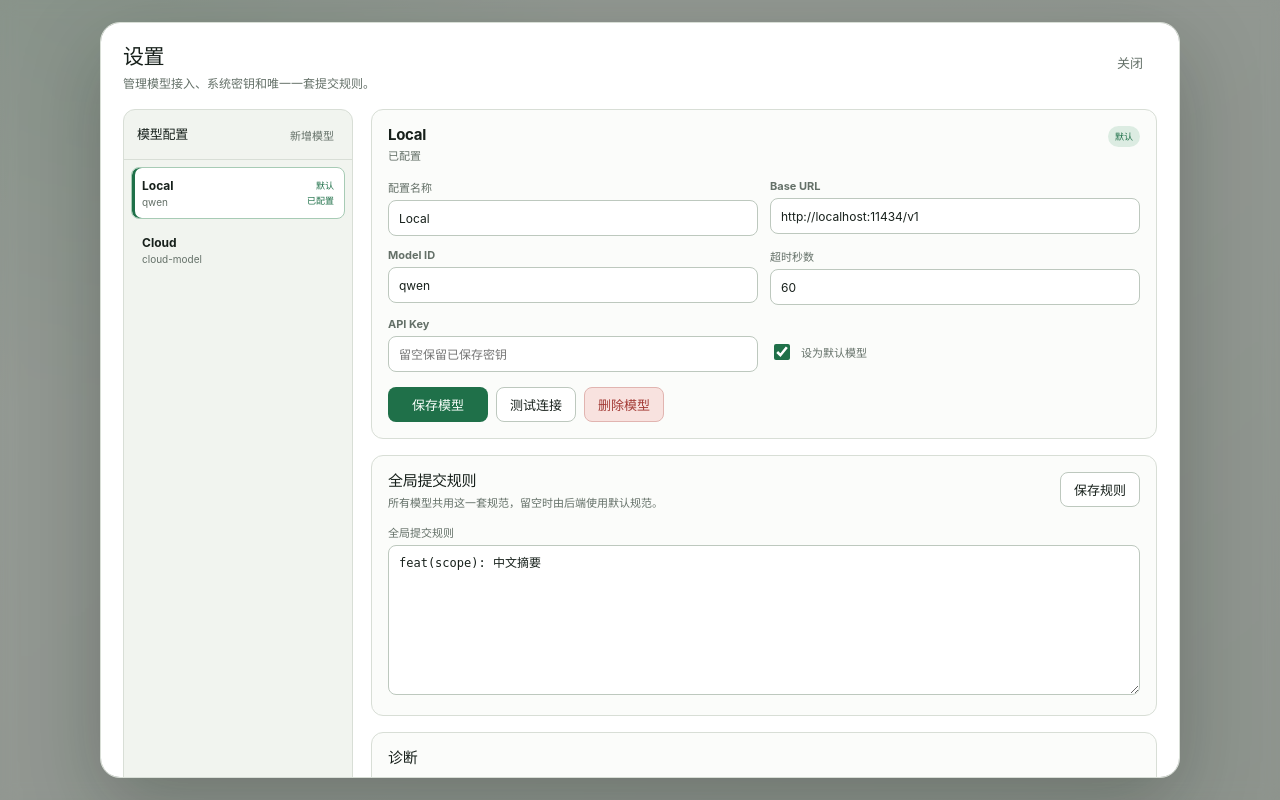
SettingsDialog › confirms before discarding unsaved edits
Later steps or results of the test are not shown.
Type " 修改" into the text box labelled "全局提交规则" at (764, 620), box [388,545,1140,695]
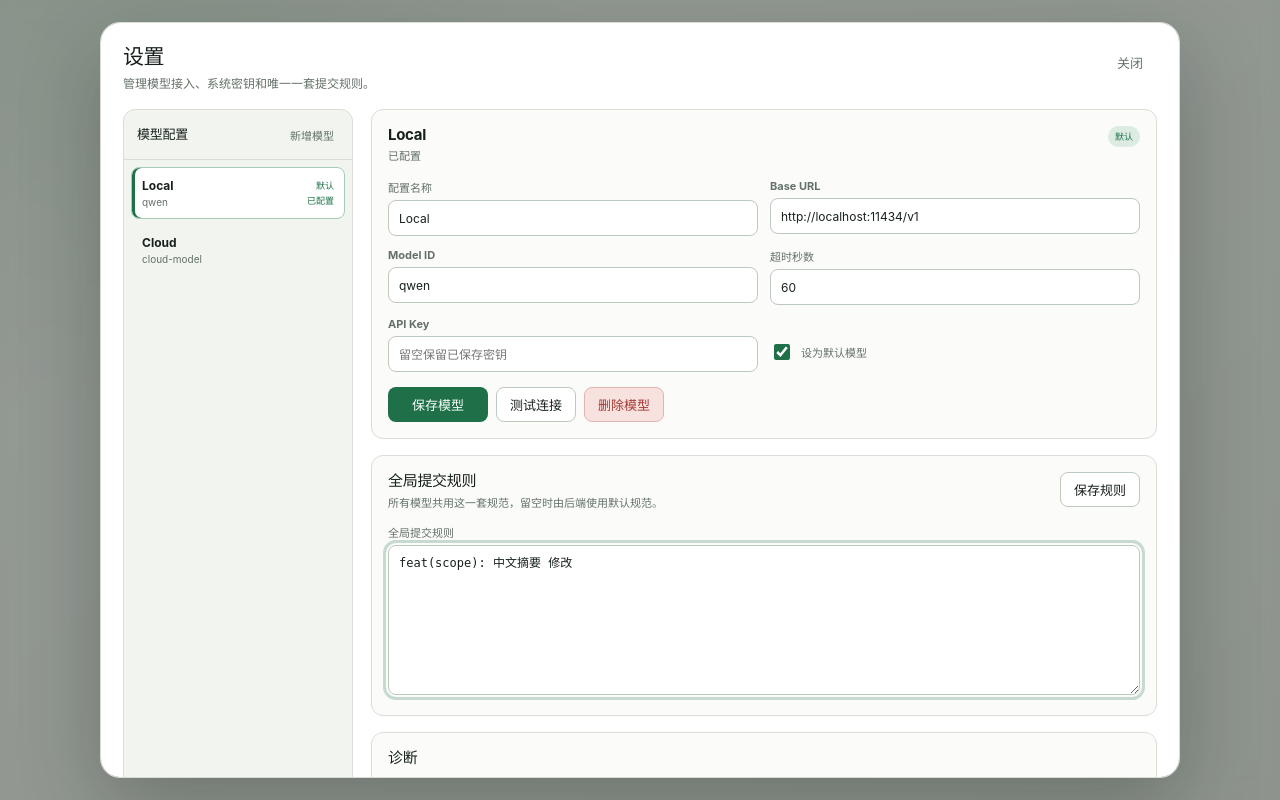
Click the button with aria-label "关闭设置" at (1130, 62), box [1103,45,1157,80]
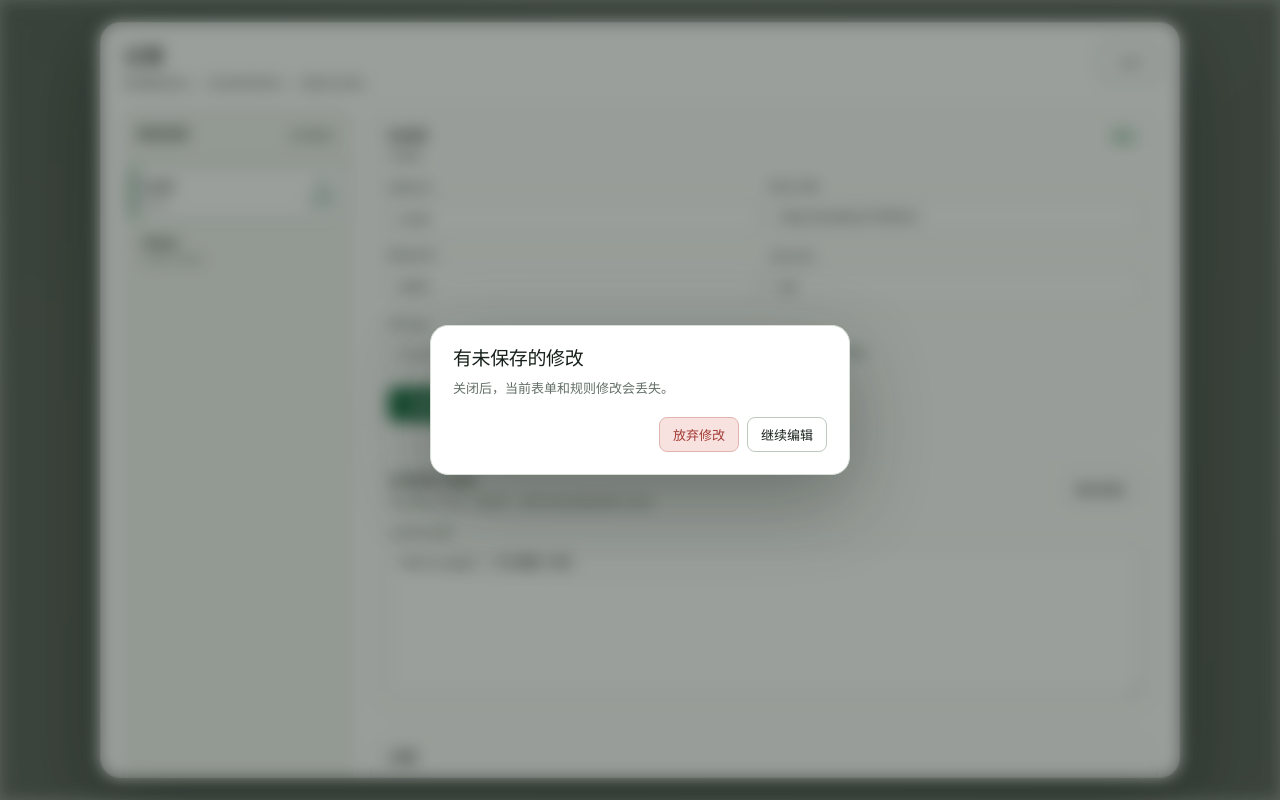
expect the dialog "有未保存的修改 关闭后，当前表单和规则修改会丢失。 放弃修改 继续编辑" is shown: met, box [430,325,850,475]
